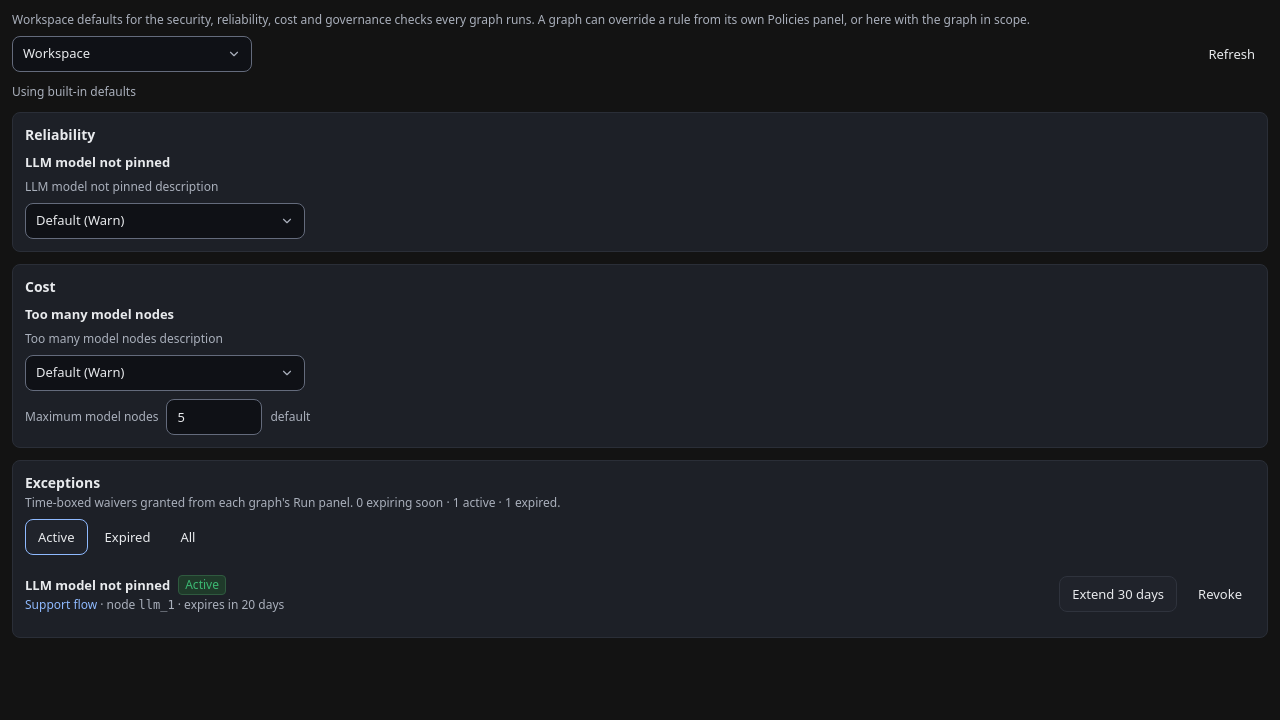
Test case: WorkspacePoliciesPanel › shows a refused save as an alert (the public demo's read-only workspace policies)
Step 1. Replace the text in the number field labelled "Maximum model nodes" with "9" → (214, 417), box [166,399,262,435]
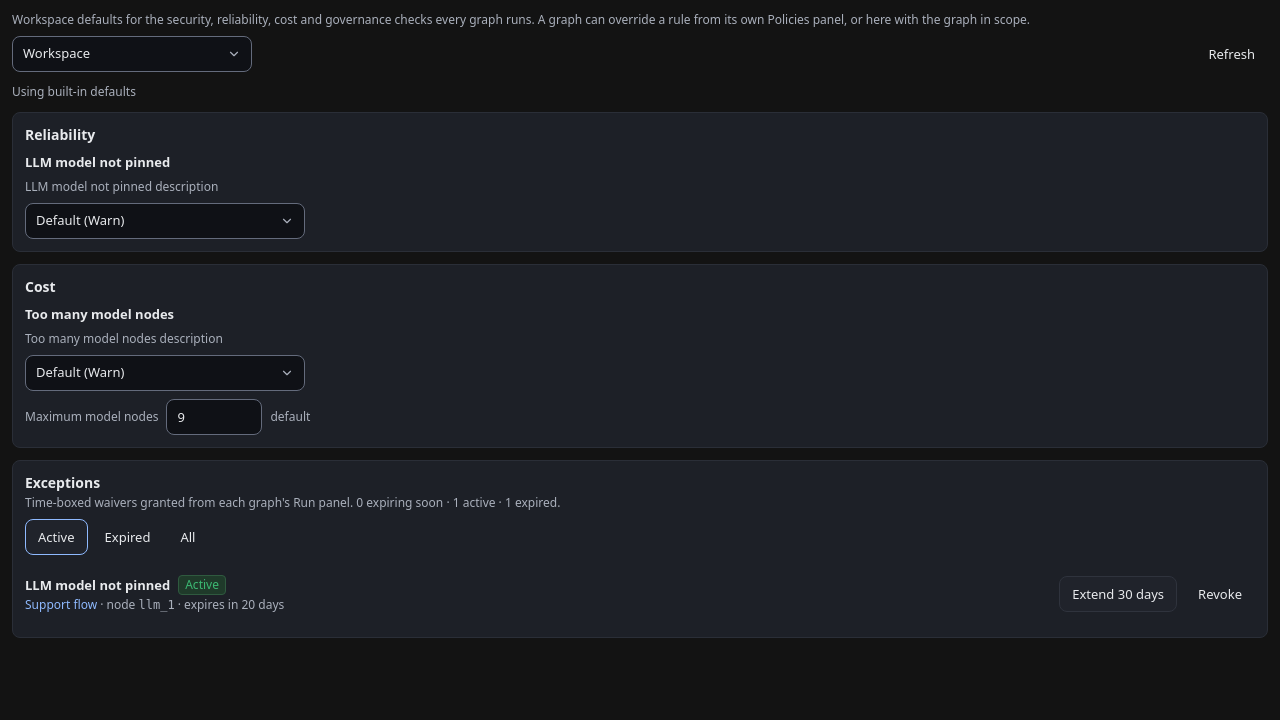
Step 2. Leave the number field labelled "Maximum model nodes", box [166,399,262,435]
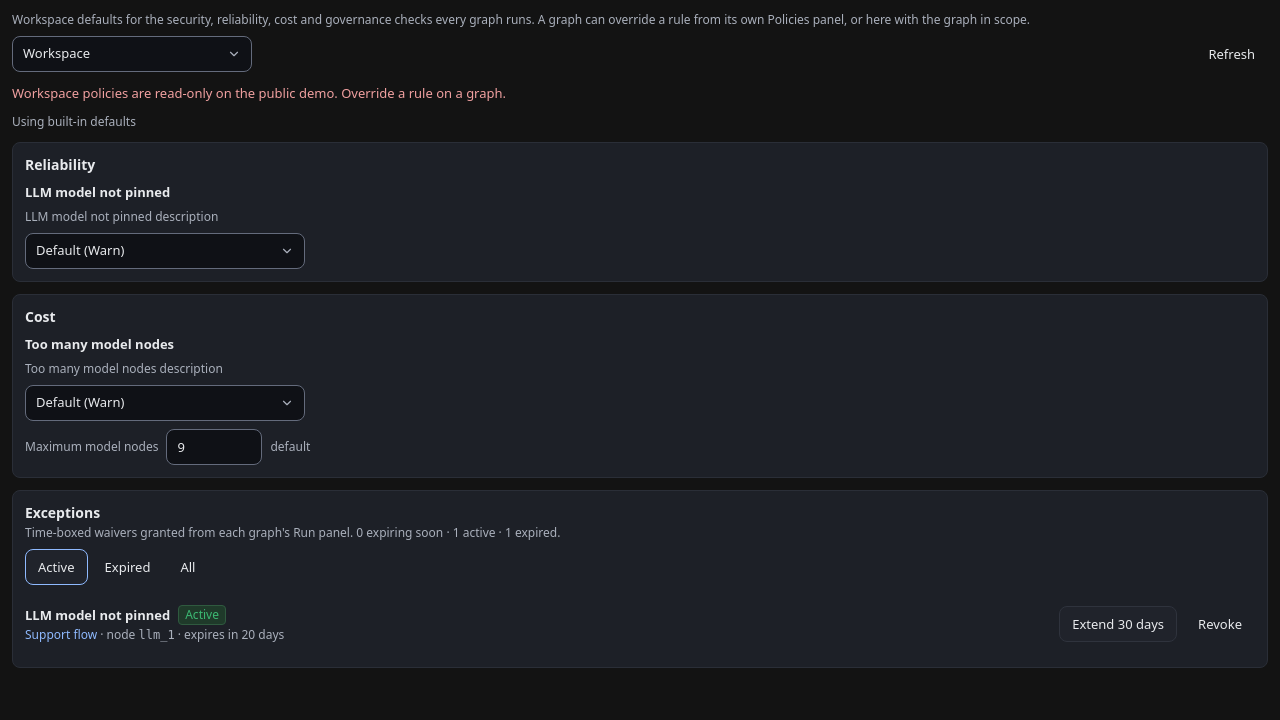
Expected: the 1st message shows "Workspace policies are read-only on the public demo", [12,84,506,102]
